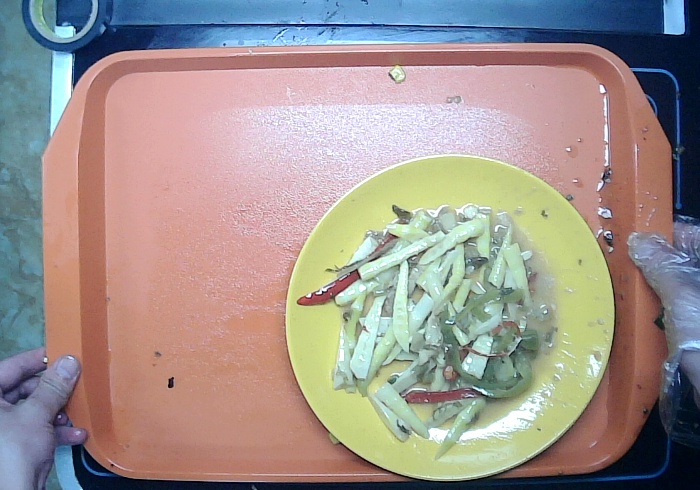HZYJPL-Huang_Se_Yuan_Pan: (283, 152, 618, 484)
